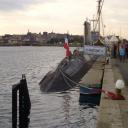submarine: (39, 17, 102, 94)
